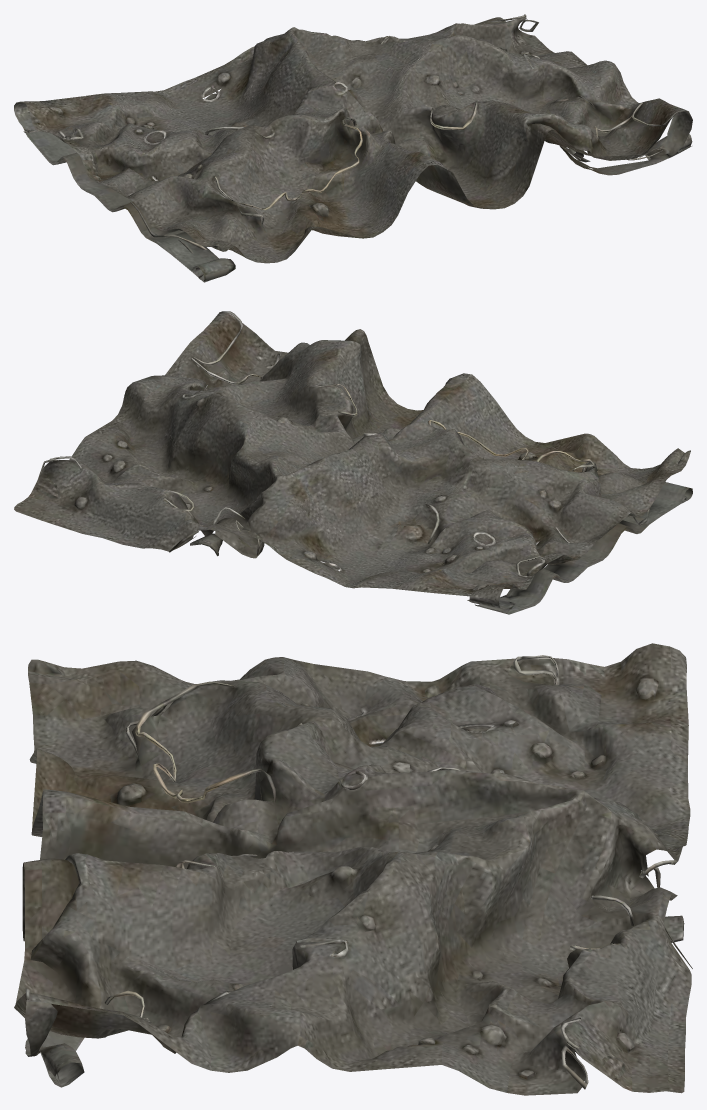
File: prop_rag.glb
The picture shows the model from 3 angles, top to bottom: view 1: azimuth 30°, elevation 25°; view 2: azimuth 150°, elevation 25°; view 3: azimuth 270°, elevation 25°; orthographic projection. The views are drawn at different scales.
Visible parts, largest first — view 1: tripo_node_e753b729-d57f-4ecf-bf41-94dcacdcf7a1; view 2: tripo_node_e753b729-d57f-4ecf-bf41-94dcacdcf7a1; view 3: tripo_node_e753b729-d57f-4ecf-bf41-94dcacdcf7a1.
Boxes of the visible parts, x1,y1,x2,y2 form: tripo_node_e753b729-d57f-4ecf-bf41-94dcacdcf7a1: [14, 14, 692, 282]; tripo_node_e753b729-d57f-4ecf-bf41-94dcacdcf7a1: [14, 311, 692, 614]; tripo_node_e753b729-d57f-4ecf-bf41-94dcacdcf7a1: [14, 643, 692, 1095].
Bounding box in the file's own units: 0.45 × 0.0759 × 0.3234.
Materials: 1 (1 with a texture image).
